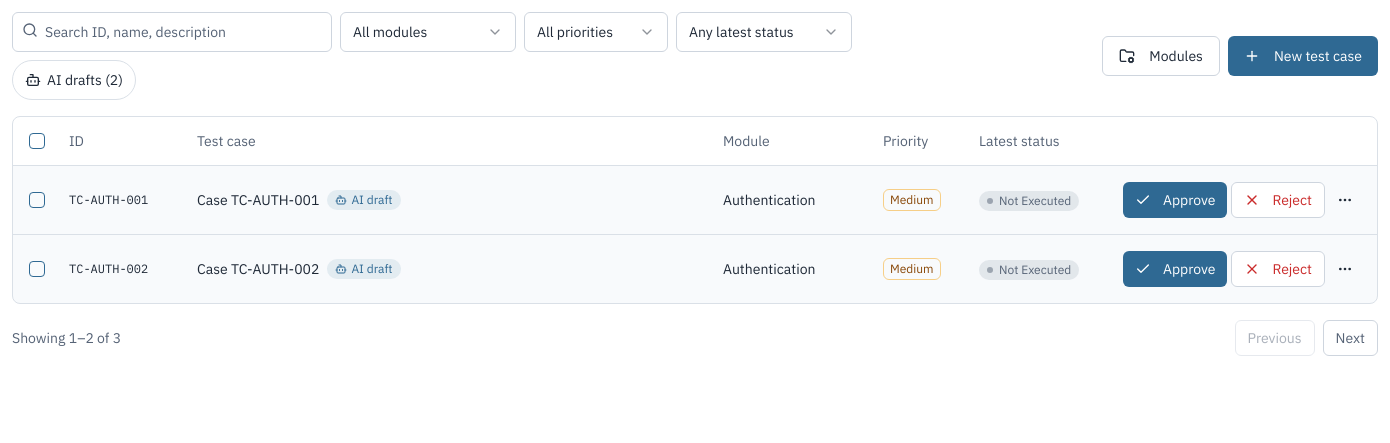
it: CasesView — AI drafts › drops a selection that is no longer on screen when the tester pages on
The image size is (1390, 443).
Click the checkbox named "Select TC-AUTH-001": click(37, 200) x1=29 y1=192 x2=45 y2=208
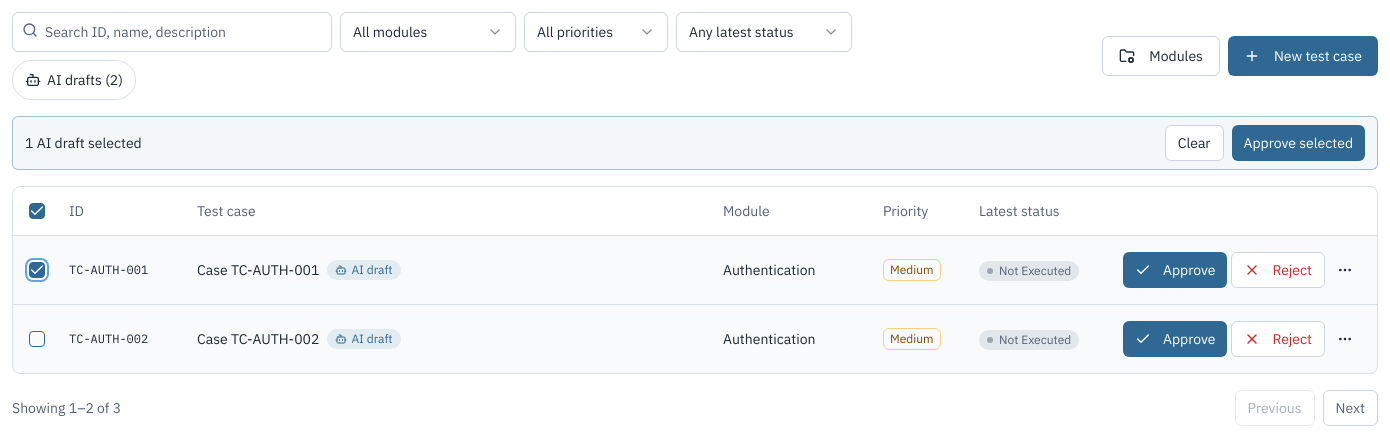
expect the text "1 AI draft selected" is shown: met, box x1=25 y1=133 x2=142 y2=153
Click the button "Next": click(1350, 408) x1=1323 y1=390 x2=1378 y2=426
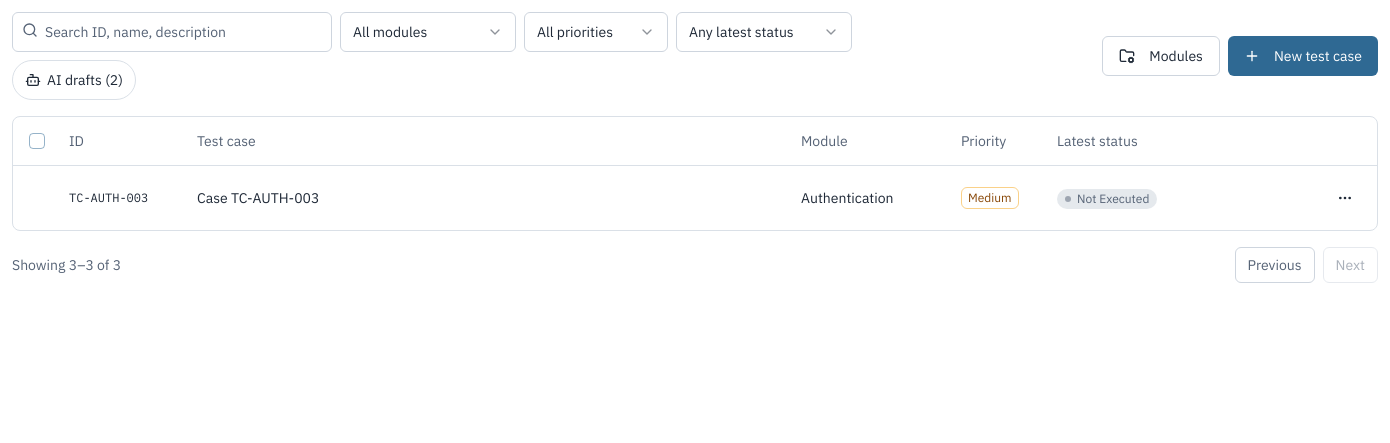
expect the text "TC-AUTH-003" is shown: met, box x1=53 y1=165 x2=181 y2=230
expect the text "1 AI draft selected" is gone: met
expect the button "Approve selected" is gone: met
